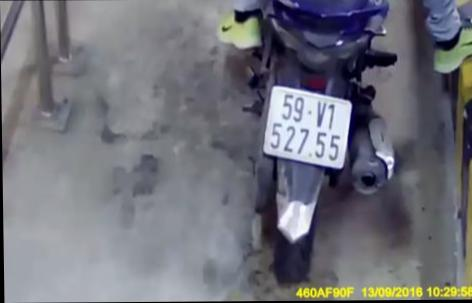LP: (260, 82, 356, 170)
